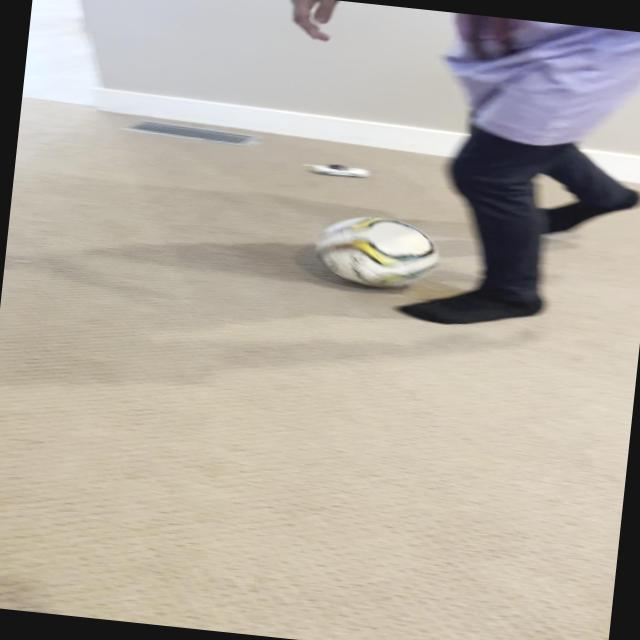Soccer Ball: (310, 208, 449, 294)
